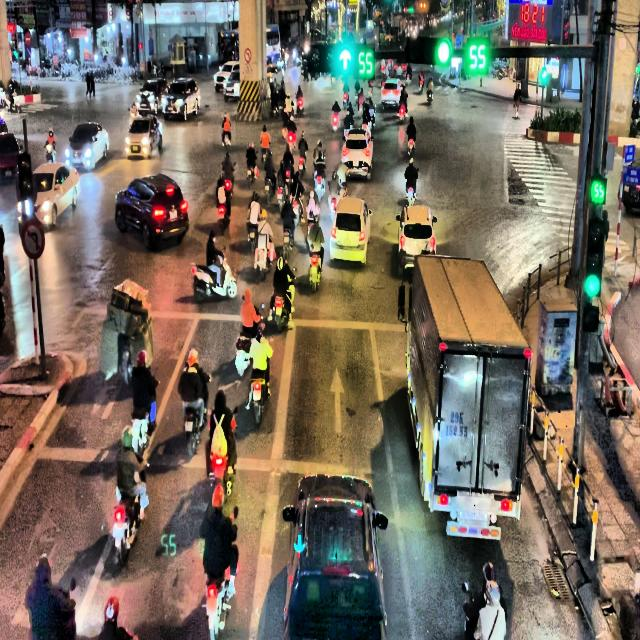lisence_plate: (446, 519, 502, 541), (443, 409, 470, 441), (344, 234, 352, 243), (351, 160, 360, 168)
